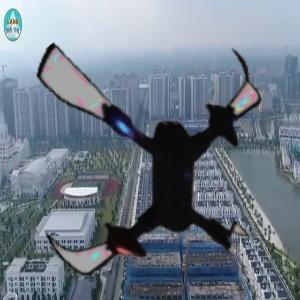drone: (1, 12, 287, 298)
